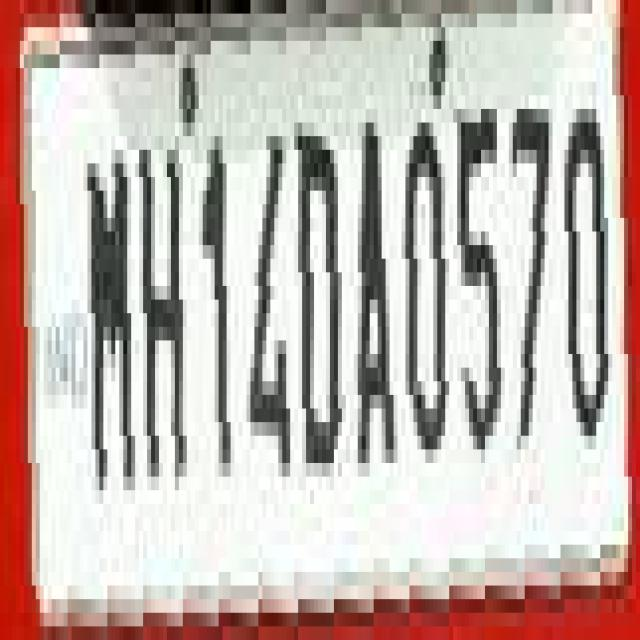license_plate: (12, 0, 640, 599)
